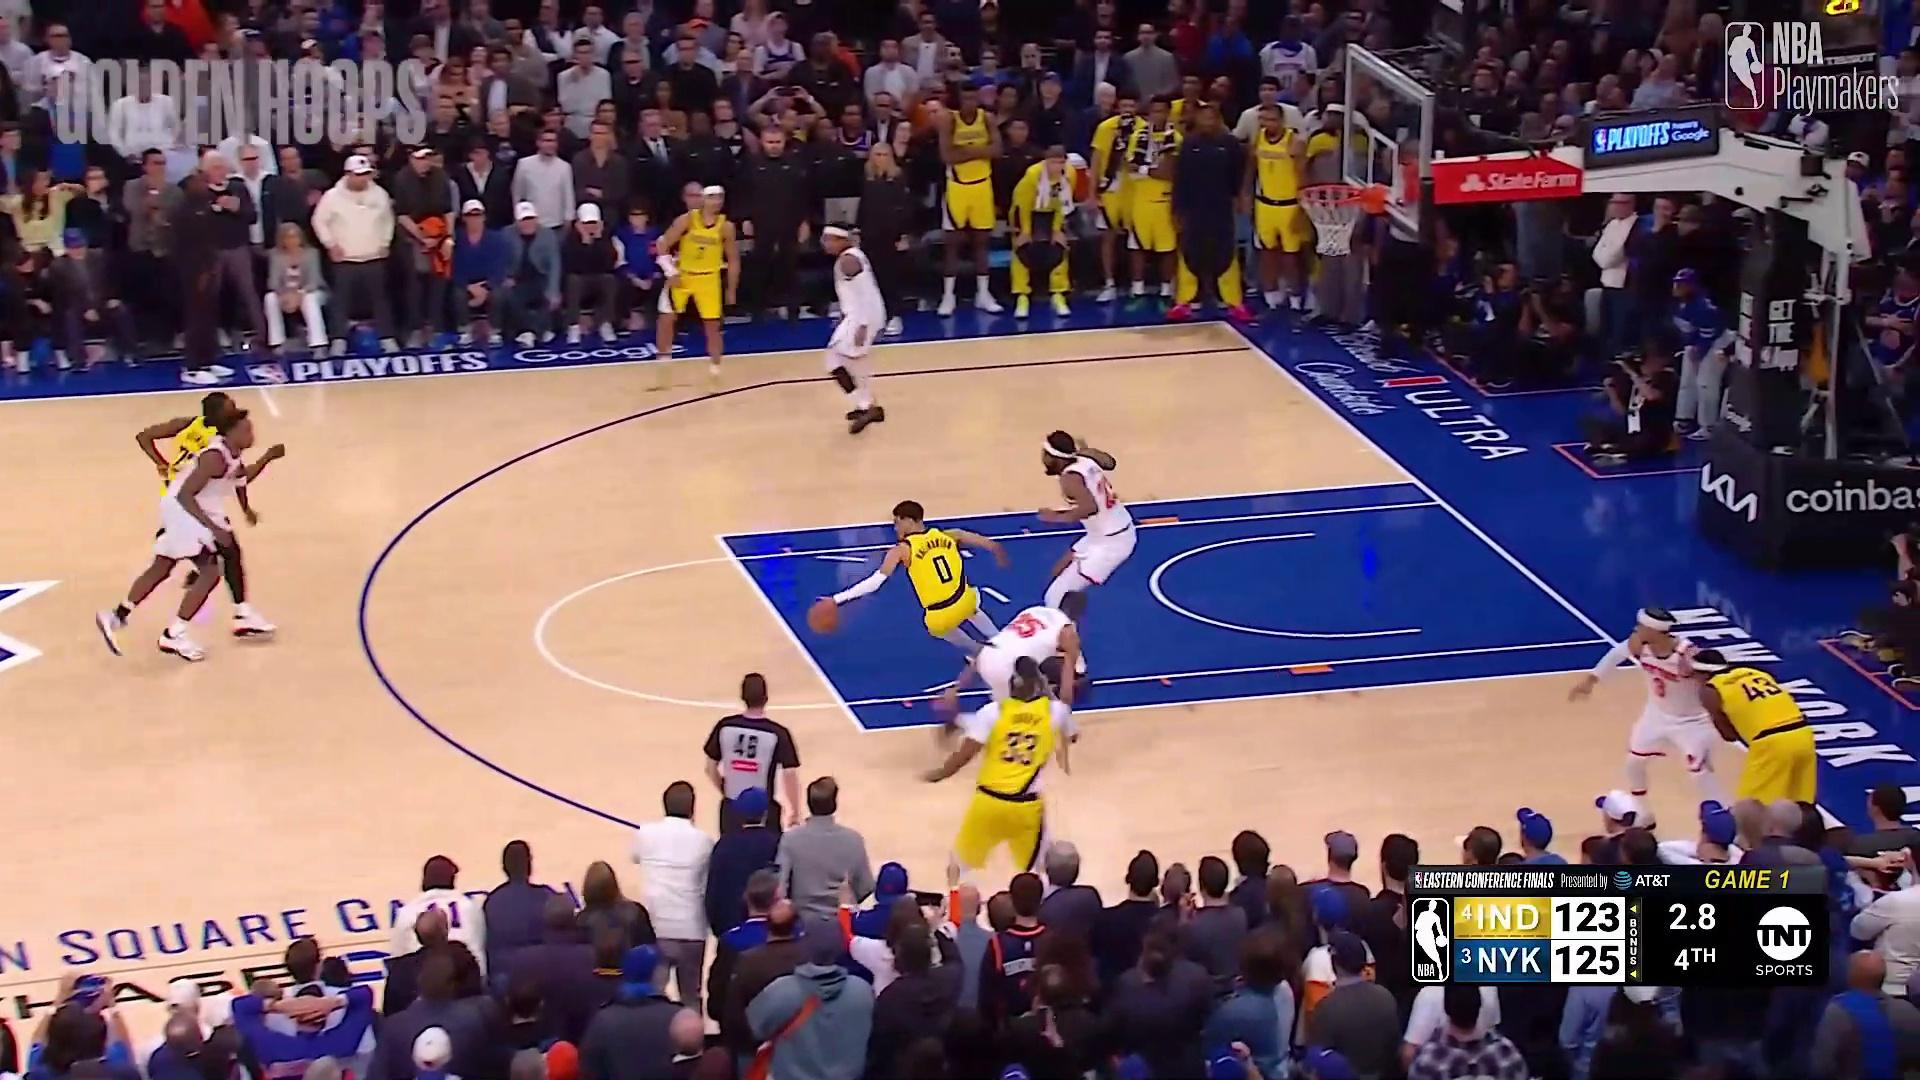ball: (806, 595, 839, 636)
hoop: (1304, 181, 1365, 257)
